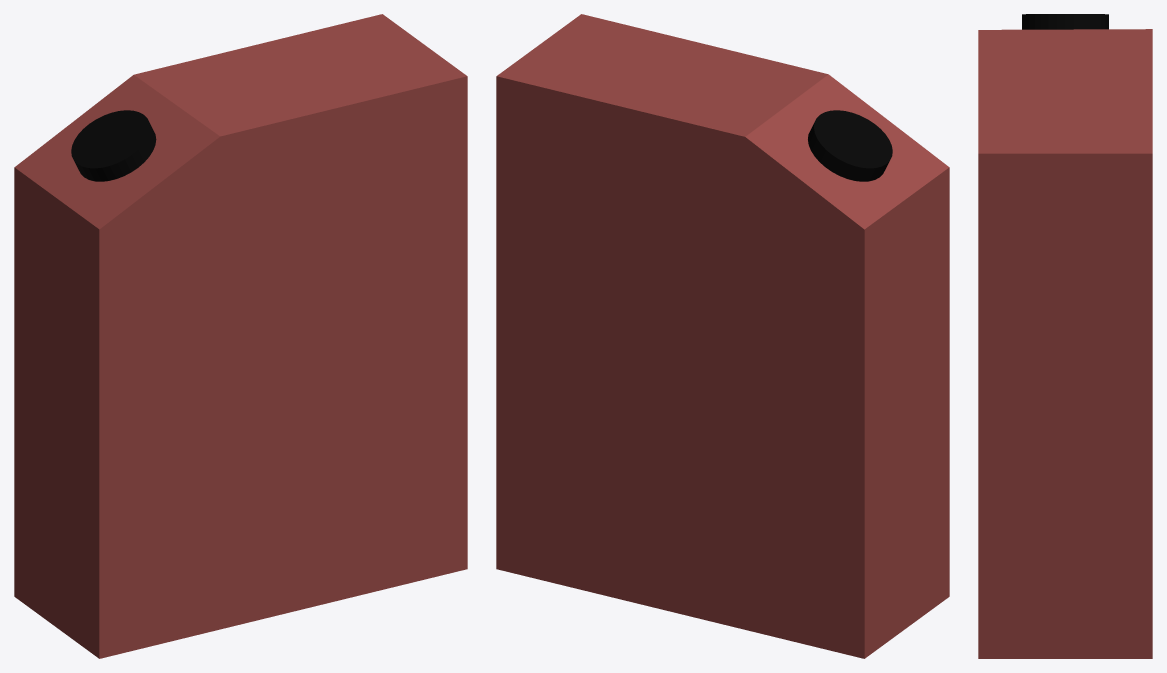
Rendered from Jerrycan.fbx.
The picture shows the model from 3 angles, left to right: view 1: azimuth 30°, elevation 25°; view 2: azimuth 150°, elevation 25°; view 3: azimuth 270°, elevation 25°; orthographic projection. The views are drawn at different scales.
Visible parts, largest first — view 1: Jerrycan; view 2: Jerrycan; view 3: Jerrycan.
Boxes of the visible parts, x1,y1,x2,y2 form: Jerrycan: (14,14,467,658); Jerrycan: (496,14,949,658); Jerrycan: (978,14,1152,658).
Bounding box in the file's own units: 50 × 64 × 20.
